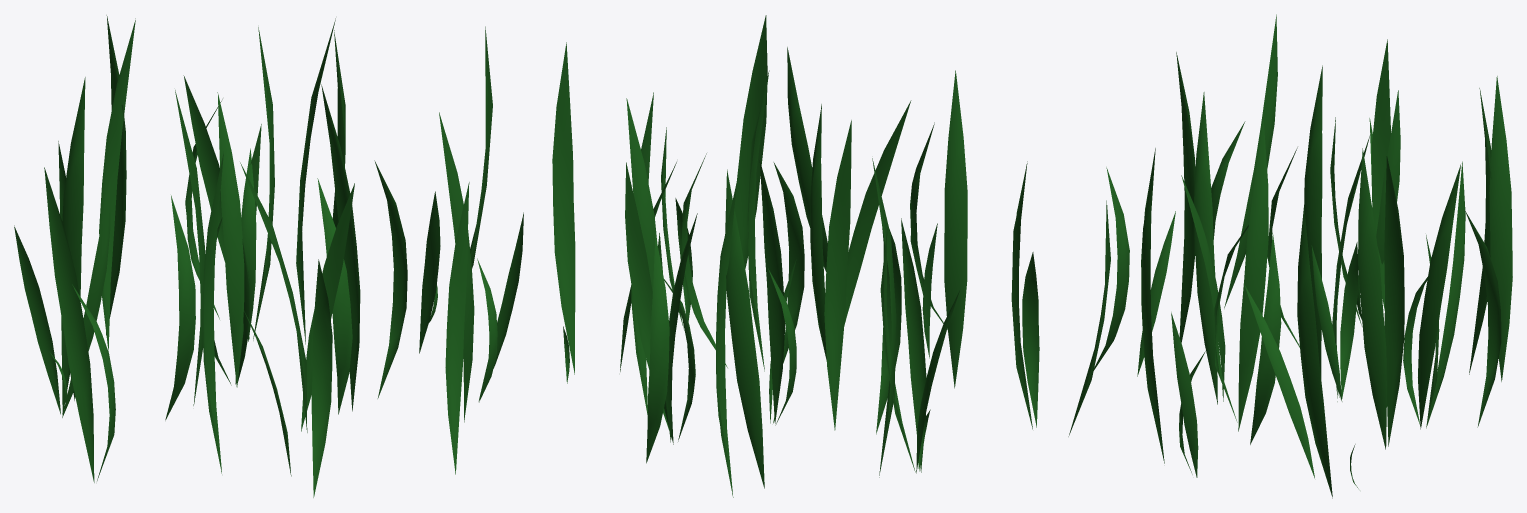
File: Gras_v3.fbx
3 renders of one model, left to right at view 1: azimuth 30°, elevation 25°; view 2: azimuth 150°, elevation 25°; view 3: azimuth 270°, elevation 25°, orthographic. The views are drawn at different scales.
Visible parts, largest first — view 1: Grashalm.003; view 2: Grashalm.003; view 3: Grashalm.003.
Part boxes in pixels (x1,y1,x2,y2): Grashalm.003: [14, 15, 523, 497]; Grashalm.003: [552, 15, 1039, 497]; Grashalm.003: [1068, 14, 1512, 498].
Bounding box in the file's own units: 79.7 × 53.52 × 70.06.
